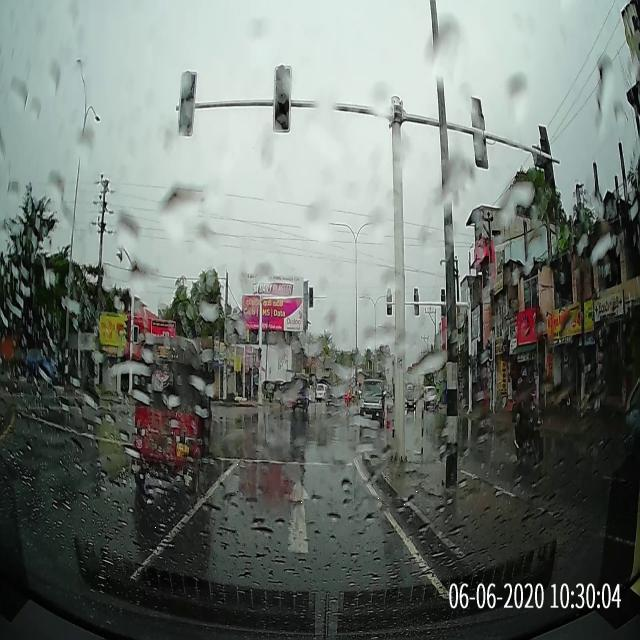forward: (148, 461, 434, 548)
